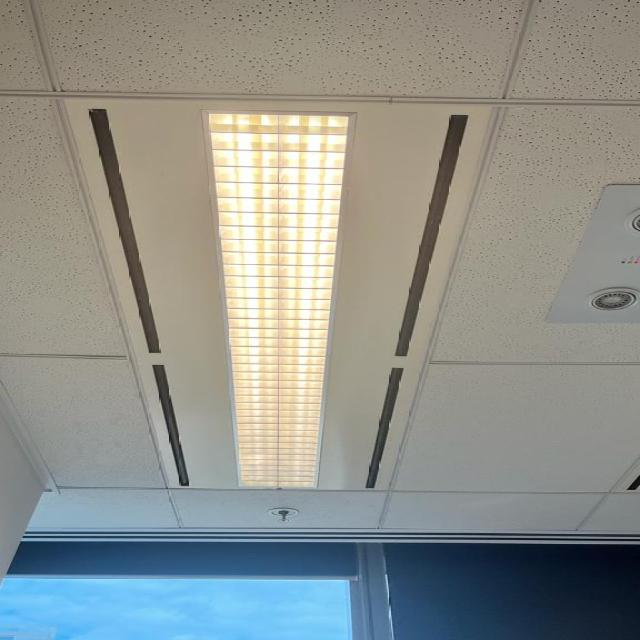Light-Opened: (61, 93, 510, 492)
